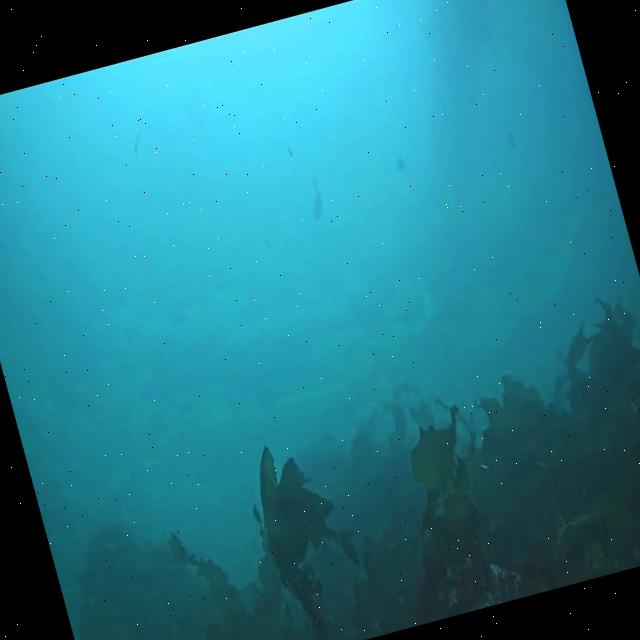fish: (304, 172, 328, 222)
